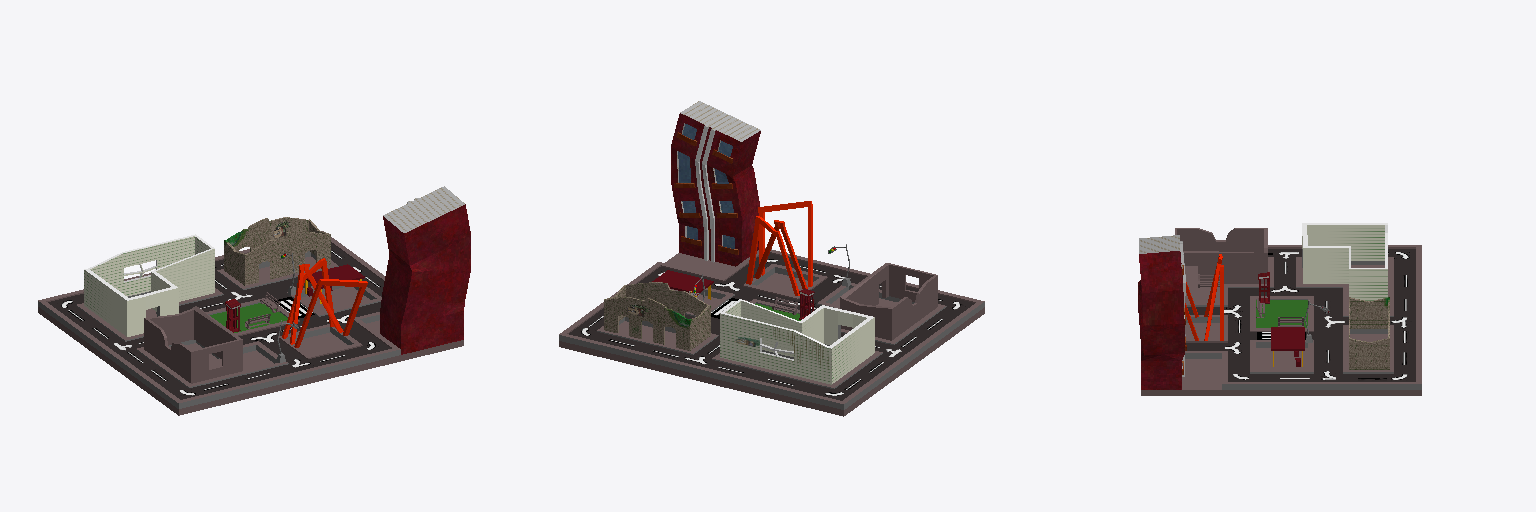
3 renders of one model, left to right at view 1: azimuth 30°, elevation 25°; view 2: azimuth 150°, elevation 25°; view 3: azimuth 270°, elevation 25°, orthographic.
Parts seen in each view (by area): view 1: ciudad_pCylinder32polySurface36, ciudad_pCylinder32polySurface32, ciudad_pCube168, ciudad_pCylinder32polySurface31, ciudad_pCylinder32polySurface37, ciudad_pCylinder32polySurface35, ciudad_pCylinder32polySurface43, ciudad_pCylinder32polySurface42, ciudad_pCylinder32polySurface27, ciudad_pCylinder32polySurface41; view 2: ciudad_pCylinder32polySurface36, ciudad_pCylinder32polySurface32, ciudad_pCube168, ciudad_pCylinder32polySurface35, ciudad_pCylinder32polySurface37, ciudad_pCylinder32polySurface31, ciudad_pCylinder32polySurface43, ciudad_pCylinder32polySurface27, ciudad_pCylinder32polySurface41, ciudad_pCylinder32polySurface42; view 3: ciudad_pCylinder32polySurface36, ciudad_pCylinder32polySurface32, ciudad_pCube168, ciudad_pCylinder32polySurface37, ciudad_pCylinder32polySurface31, ciudad_pCylinder32polySurface35, ciudad_pCylinder32polySurface41.
Boxes of the visible parts, <box> form: ciudad_pCylinder32polySurface36: <box>38,231,400,408</box>; ciudad_pCylinder32polySurface32: <box>380,186,470,354</box>; ciudad_pCube168: <box>84,234,214,336</box>; ciudad_pCylinder32polySurface31: <box>144,306,242,383</box>; ciudad_pCylinder32polySurface37: <box>38,256,463,415</box>; ciudad_pCylinder32polySurface35: <box>224,217,330,285</box>; ciudad_pCylinder32polySurface43: <box>294,279,367,347</box>; ciudad_pCylinder32polySurface42: <box>290,264,343,344</box>; ciudad_pCylinder32polySurface27: <box>282,258,334,338</box>; ciudad_pCylinder32polySurface41: <box>305,264,364,303</box>; ciudad_pCylinder32polySurface36: <box>559,248,984,409</box>; ciudad_pCylinder32polySurface32: <box>671,101,760,266</box>; ciudad_pCube168: <box>720,299,874,384</box>; ciudad_pCylinder32polySurface35: <box>604,282,710,350</box>; ciudad_pCylinder32polySurface37: <box>559,253,984,416</box>; ciudad_pCylinder32polySurface31: <box>840,263,937,340</box>; ciudad_pCylinder32polySurface43: <box>758,201,812,286</box>; ciudad_pCylinder32polySurface27: <box>746,216,799,295</box>; ciudad_pCylinder32polySurface41: <box>652,270,713,299</box>; ciudad_pCylinder32polySurface42: <box>754,220,807,288</box>; ciudad_pCylinder32polySurface36: <box>1185,245,1421,389</box>; ciudad_pCylinder32polySurface32: <box>1138,235,1186,389</box>; ciudad_pCube168: <box>1302,223,1387,300</box>; ciudad_pCylinder32polySurface37: <box>1141,265,1421,395</box>; ciudad_pCylinder32polySurface31: <box>1175,228,1267,283</box>; ciudad_pCylinder32polySurface35: <box>1349,297,1389,369</box>; ciudad_pCylinder32polySurface41: <box>1271,327,1304,366</box>.
Size of the model in its own units: 93.47 by 44.22 by 78.15.
21 materials, 9 textured.